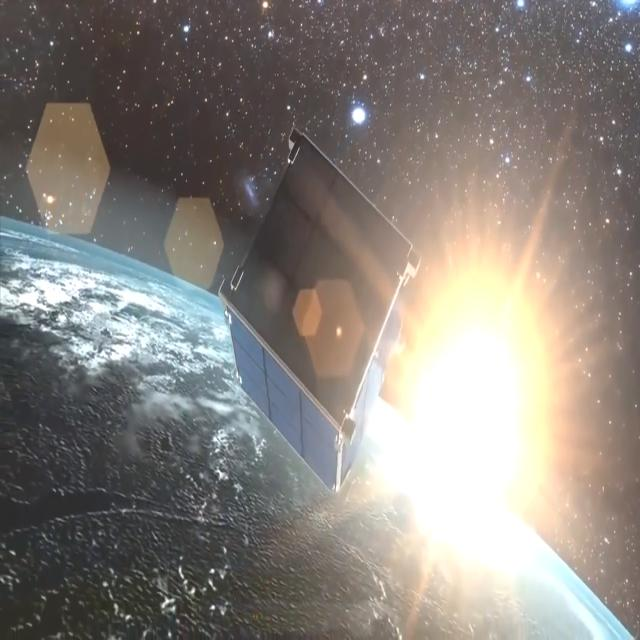medium_debris: (213, 67, 427, 546)
